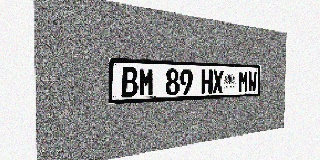8: (166, 68, 179, 96)
9: (180, 69, 193, 95)
B: (121, 67, 138, 97)
H: (201, 69, 212, 94)
M: (139, 68, 154, 97), (239, 70, 248, 92)
W: (248, 71, 257, 92)
X: (212, 70, 223, 94)
